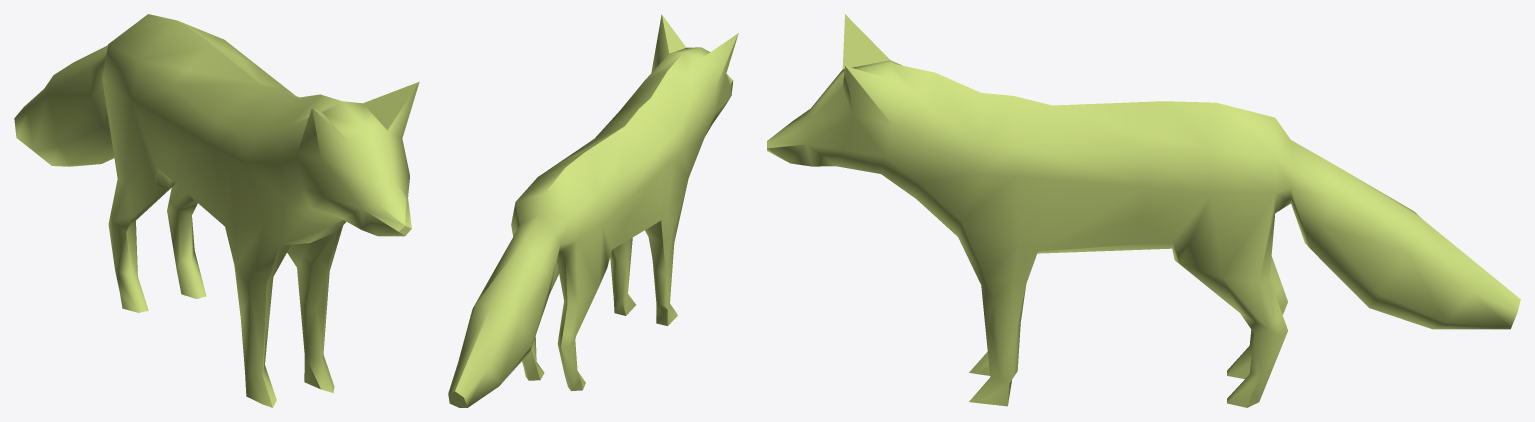
3 views of the same model, side by side, from view 1: azimuth 30°, elevation 25°; view 2: azimuth 150°, elevation 25°; view 3: azimuth 270°, elevation 25° (orthographic). The views are drawn at different scales.
Parts seen in each view (by area): view 1: Object_2; view 2: Object_2; view 3: Object_2.
Part boxes in pixels (x1=…): Object_2: x1=14, y1=14, x2=419, y2=407; Object_2: x1=448, y1=14, x2=738, y2=407; Object_2: x1=767, y1=14, x2=1520, y2=407.
Bounding box in the file's own units: 0.1628 × 0.5108 × 1.
